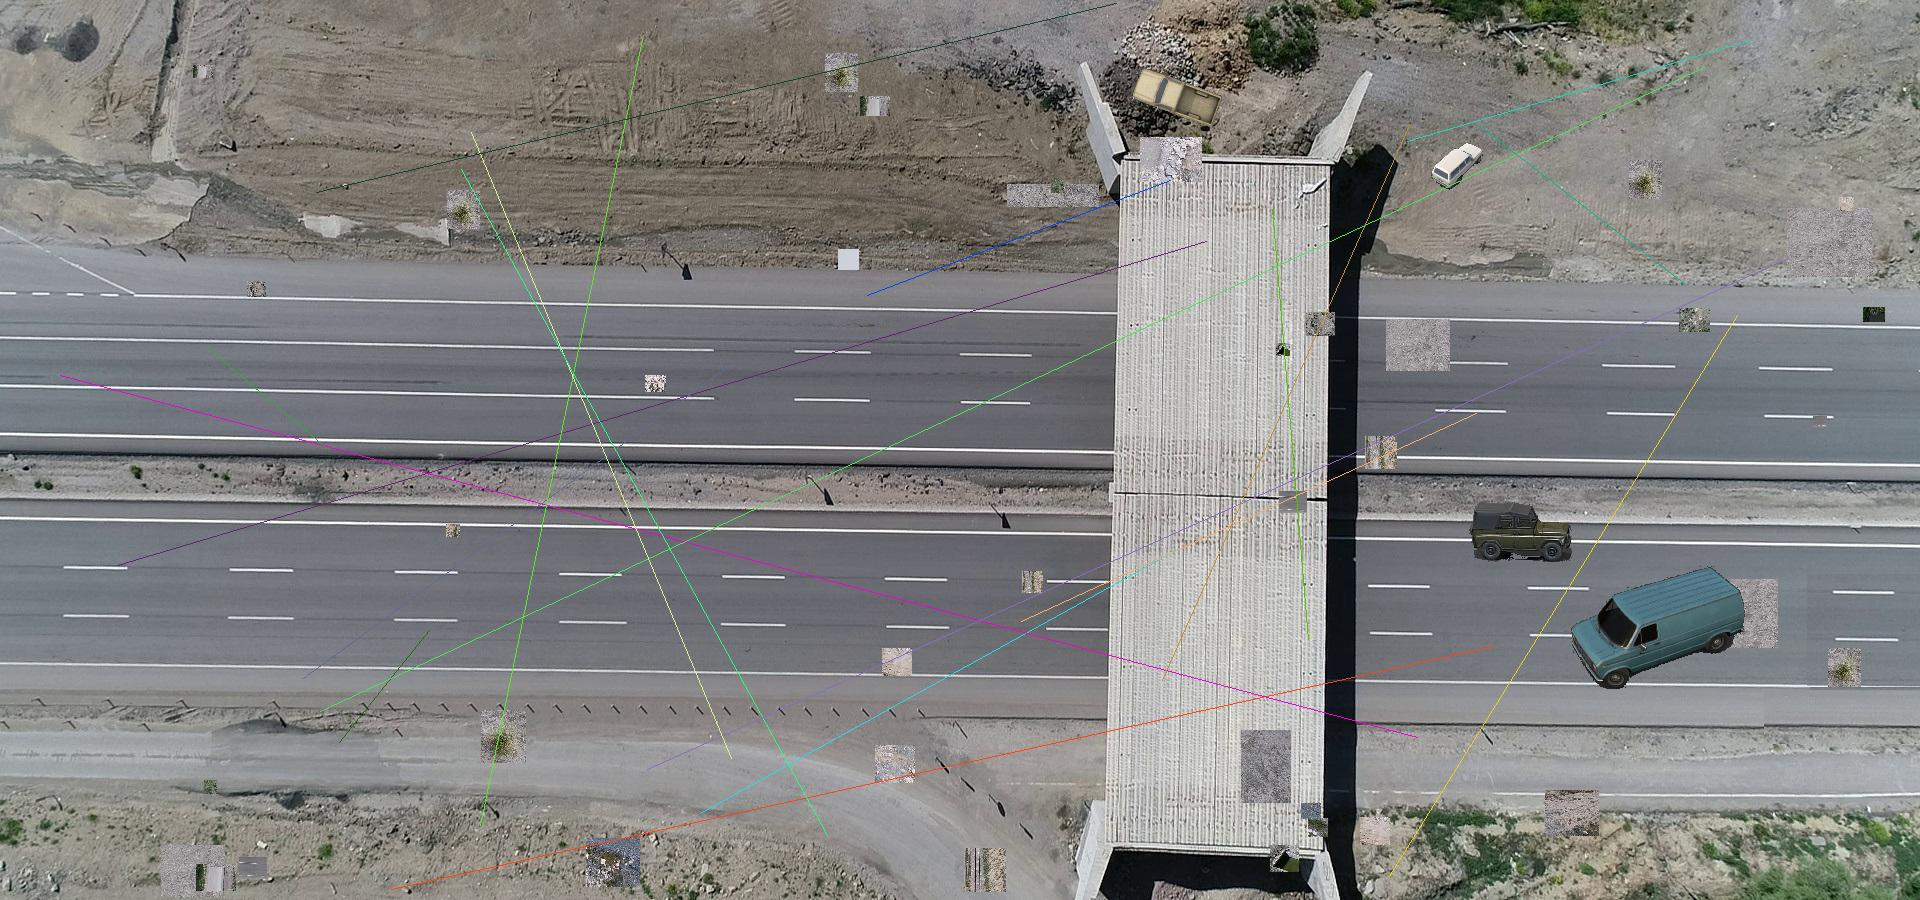arac: (1571, 563, 1746, 691), (1468, 502, 1572, 562), (1131, 66, 1223, 126), (1430, 140, 1484, 190)
